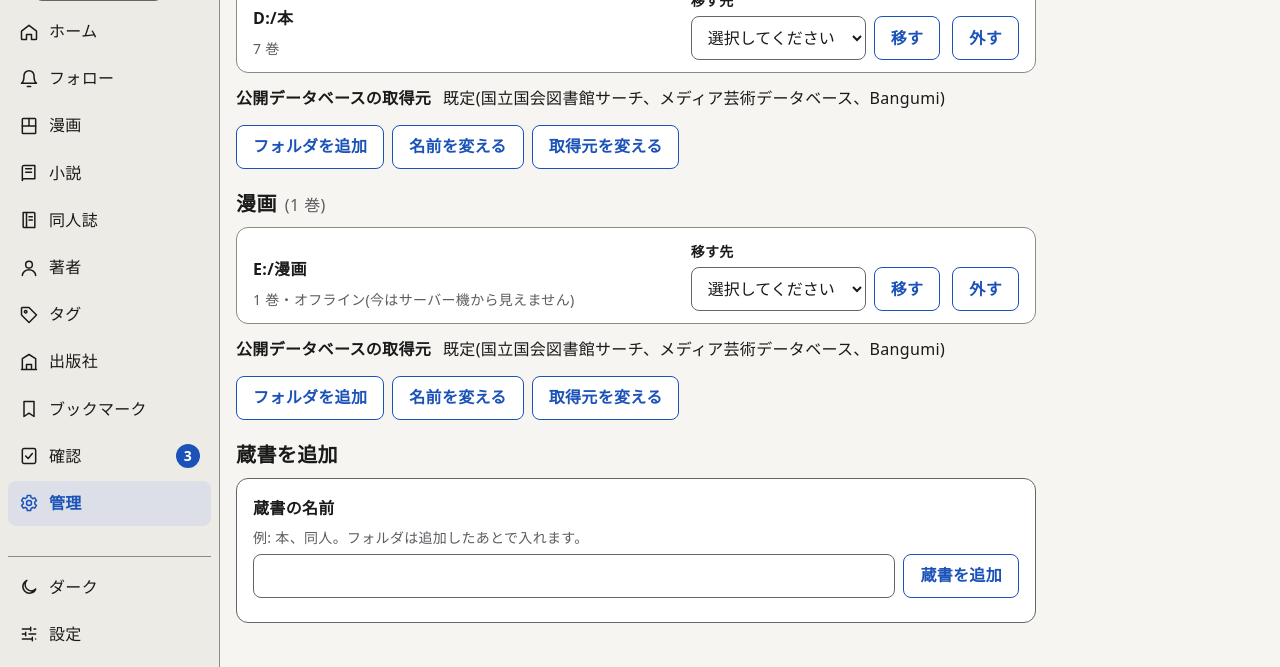
Test: 蔵書の管理 › 蔵書を足すと、サイドバーにも出る。空の名前と同じ名前は理由を出す
(page scrolled)
Click the button "蔵書を追加" at (961, 576), box [903,554,1019,598]
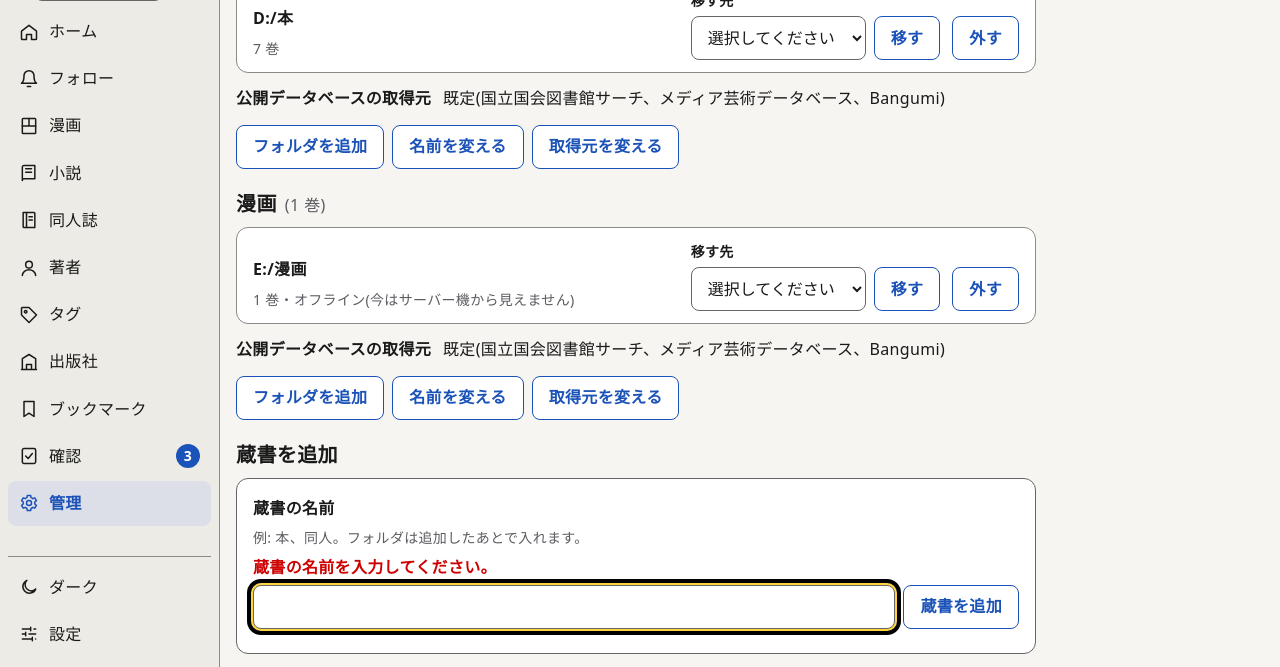
Expected: the field labelled "蔵書の名前" is marked as invalid
Type "本" into the field labelled "蔵書の名前" at (574, 607), box [253,585,895,629]
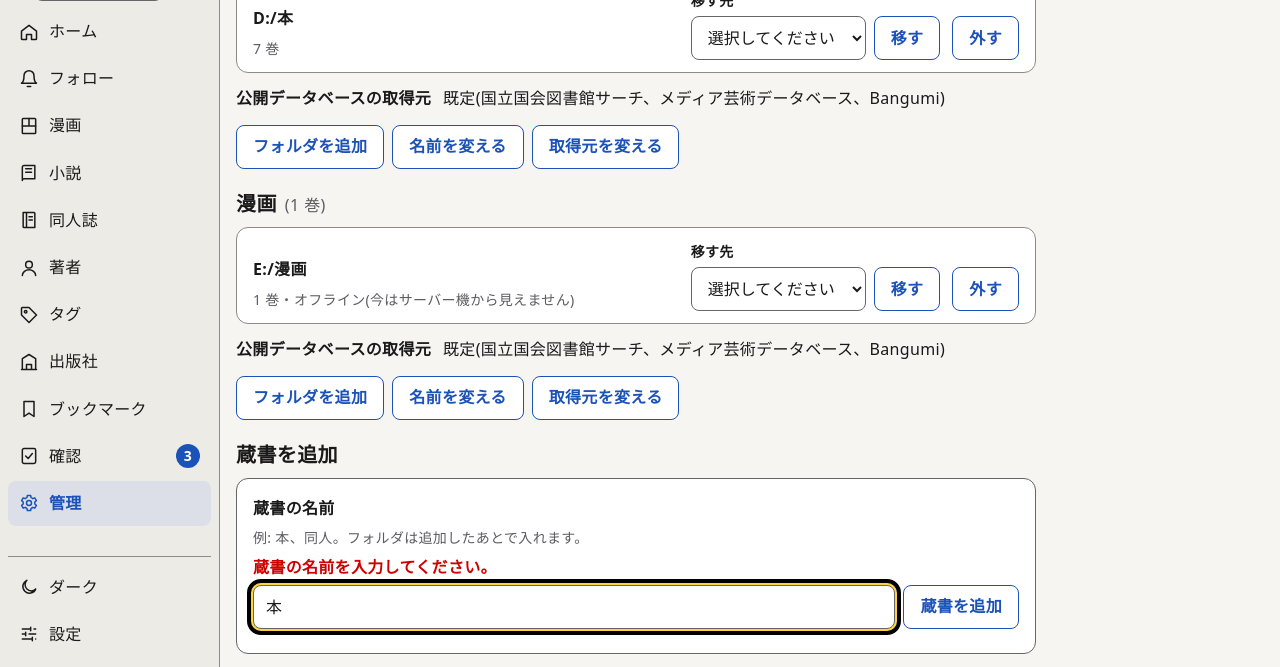
Click the button "蔵書を追加" at (961, 607), box [903,585,1019,629]
(page scrolled)
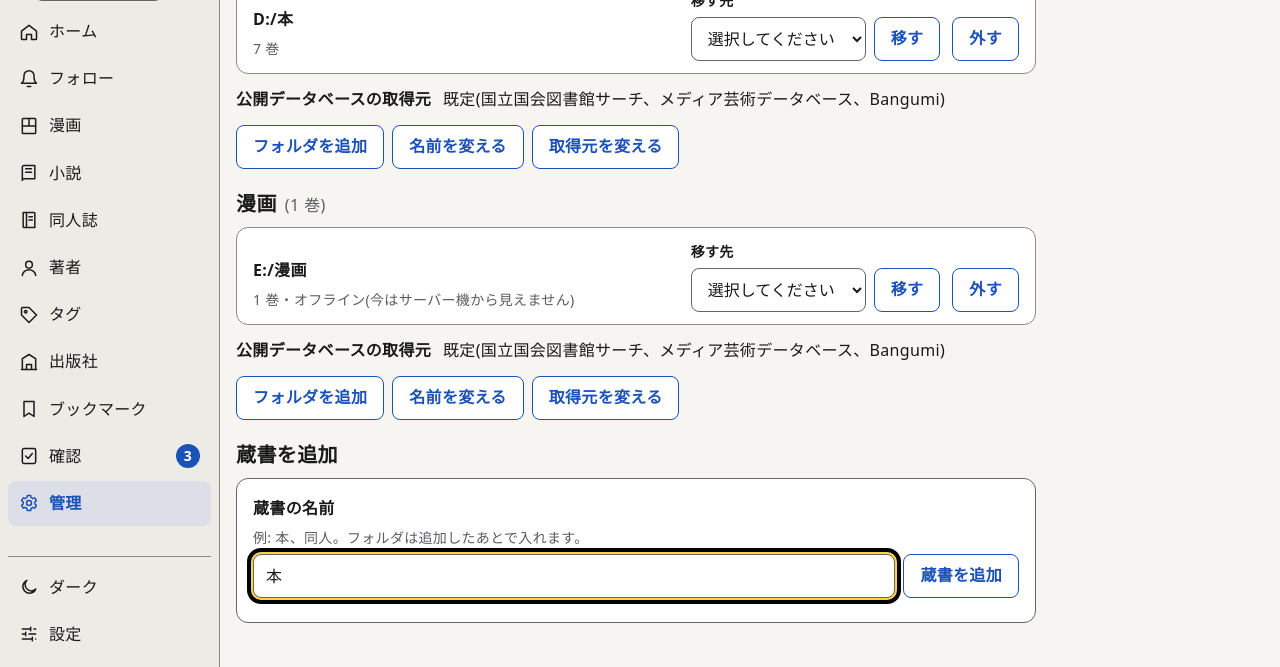
Replace the text in the field labelled "蔵書の名前" with " 同人 " at (574, 576), box [253,554,895,598]
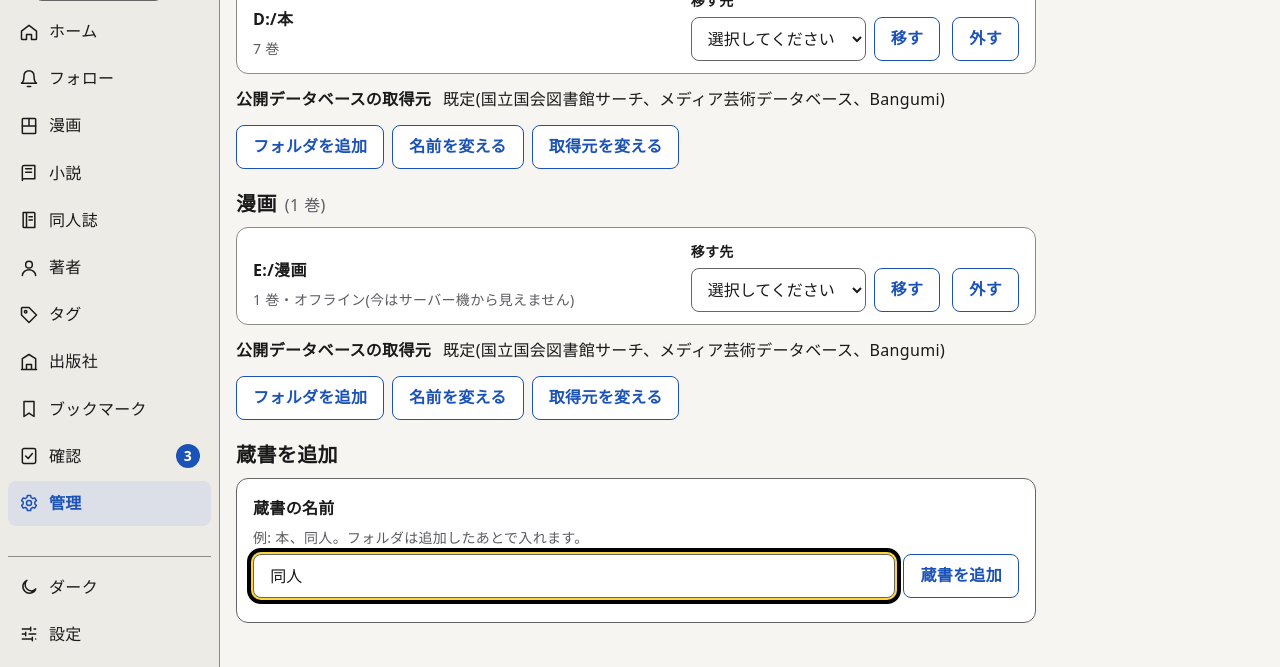
Click the button "蔵書を追加" at (961, 576), box [903,554,1019,598]
(page scrolled)
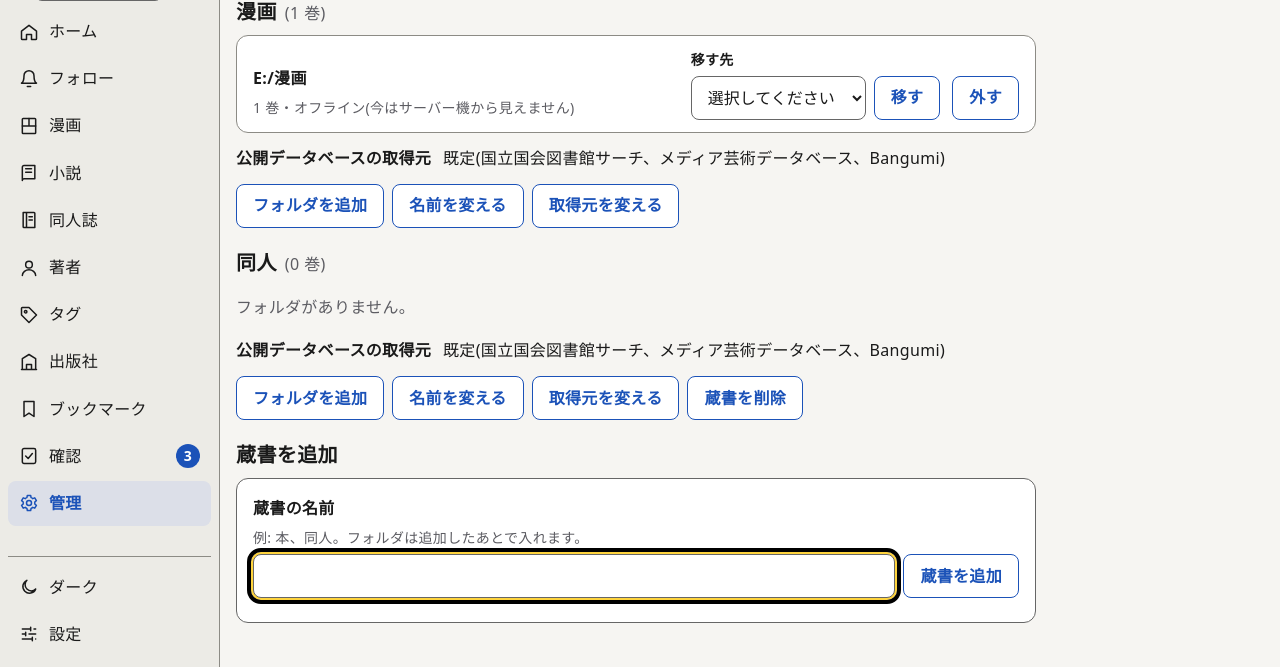
Expected: the heading "同人(0 巻)" is shown, [236,249,326,276]
Expected: the field labelled "蔵書の名前" is empty, [253,554,895,598]
